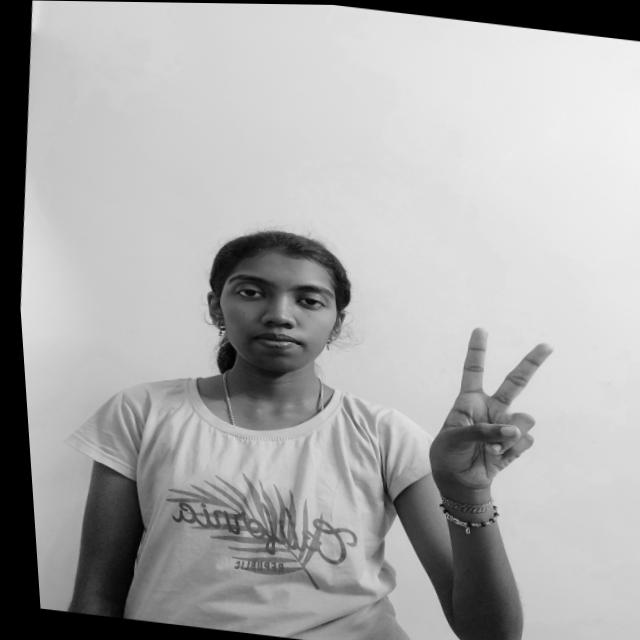Victory: (405, 314, 566, 505)
